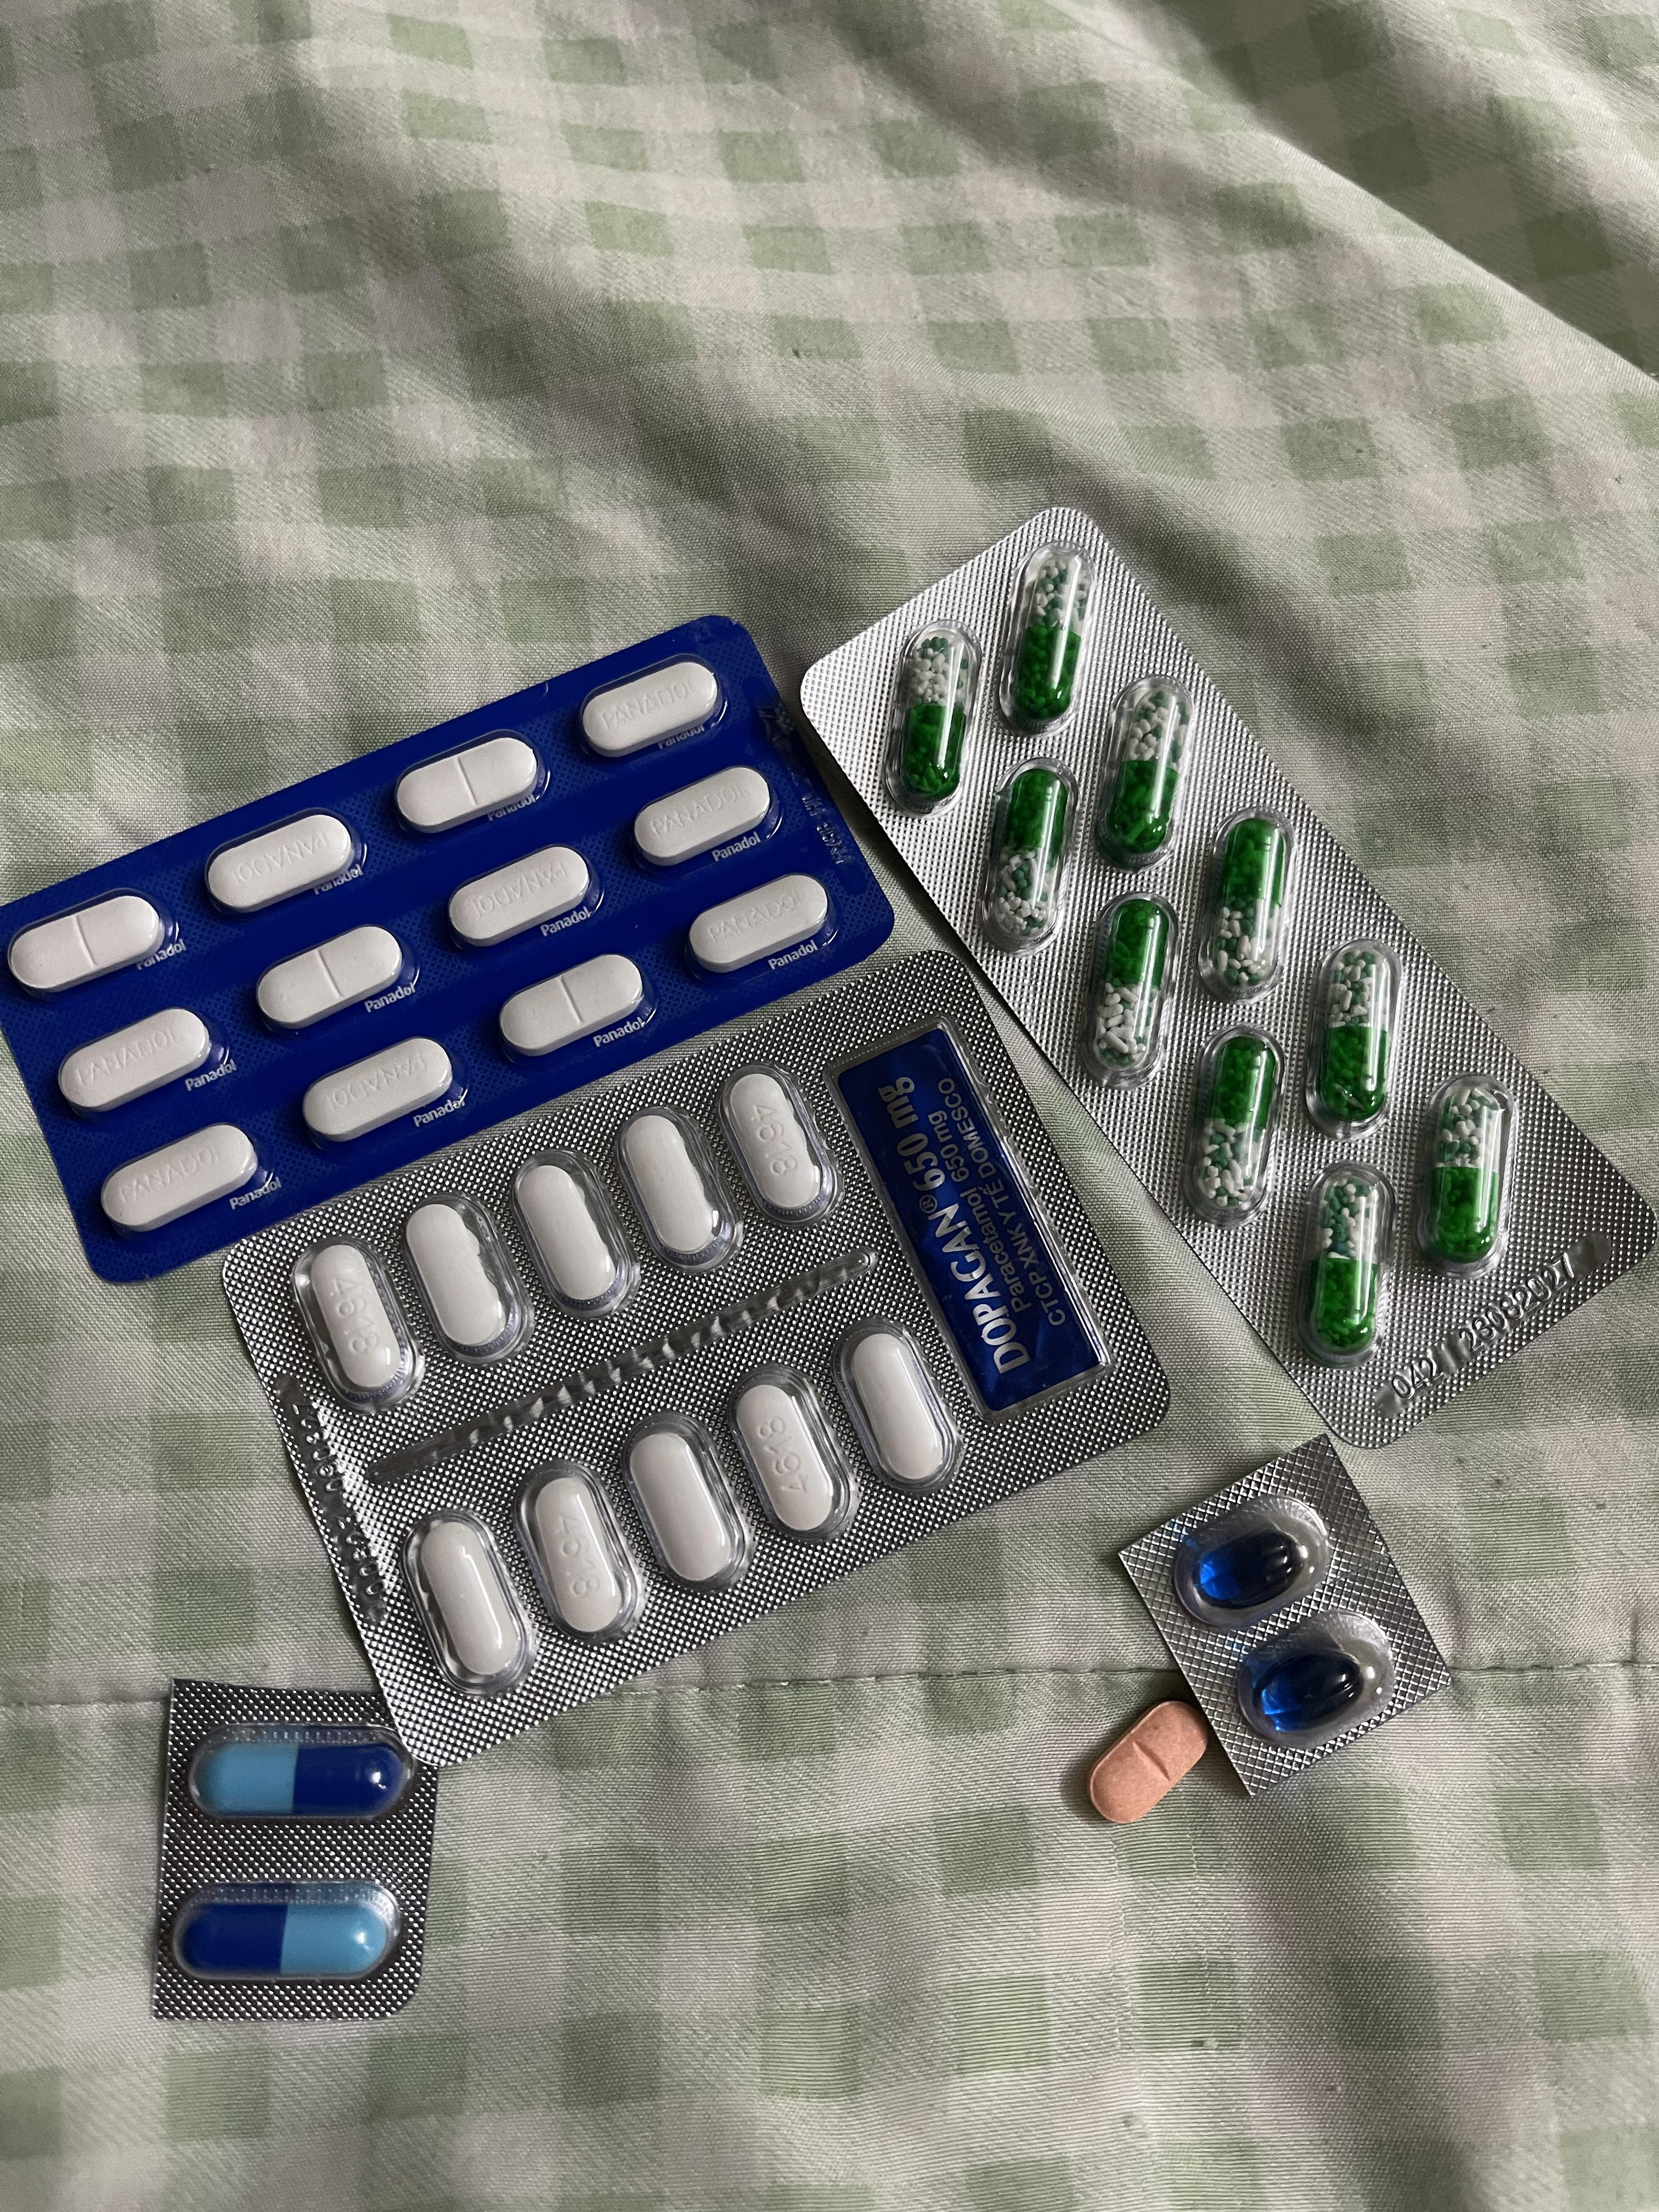Lincomyxin_500mg: (1251, 1648, 1364, 1728), (1192, 1527, 1305, 1608)
Loratadine_10mg: (1087, 1698, 1208, 1827)
Paracetamol_350mg: (99, 1122, 261, 1237), (54, 1007, 216, 1120), (9, 888, 174, 998), (303, 1038, 457, 1153), (258, 923, 410, 1035), (502, 953, 652, 1064), (206, 810, 359, 916), (448, 843, 598, 951), (687, 871, 831, 982), (394, 733, 544, 836), (580, 657, 723, 763), (634, 766, 775, 871)
Paracetamol_500mg: (720, 1359, 856, 1548), (619, 1409, 753, 1595), (514, 1458, 645, 1641), (404, 1508, 537, 1688), (397, 1197, 533, 1366), (507, 1151, 640, 1322), (291, 1238, 420, 1411), (613, 1103, 744, 1271), (718, 1064, 836, 1226), (847, 1329, 948, 1486)
Paracetamol_650mg: (1297, 1163, 1398, 1364), (976, 761, 1075, 956), (1093, 681, 1192, 873), (1187, 1031, 1284, 1224), (884, 627, 981, 815), (997, 549, 1094, 735), (1304, 941, 1396, 1136), (1197, 813, 1291, 996), (1082, 895, 1176, 1078), (1427, 1090, 1497, 1258)
pill: (169, 1885, 415, 1986), (186, 1726, 418, 1825)
